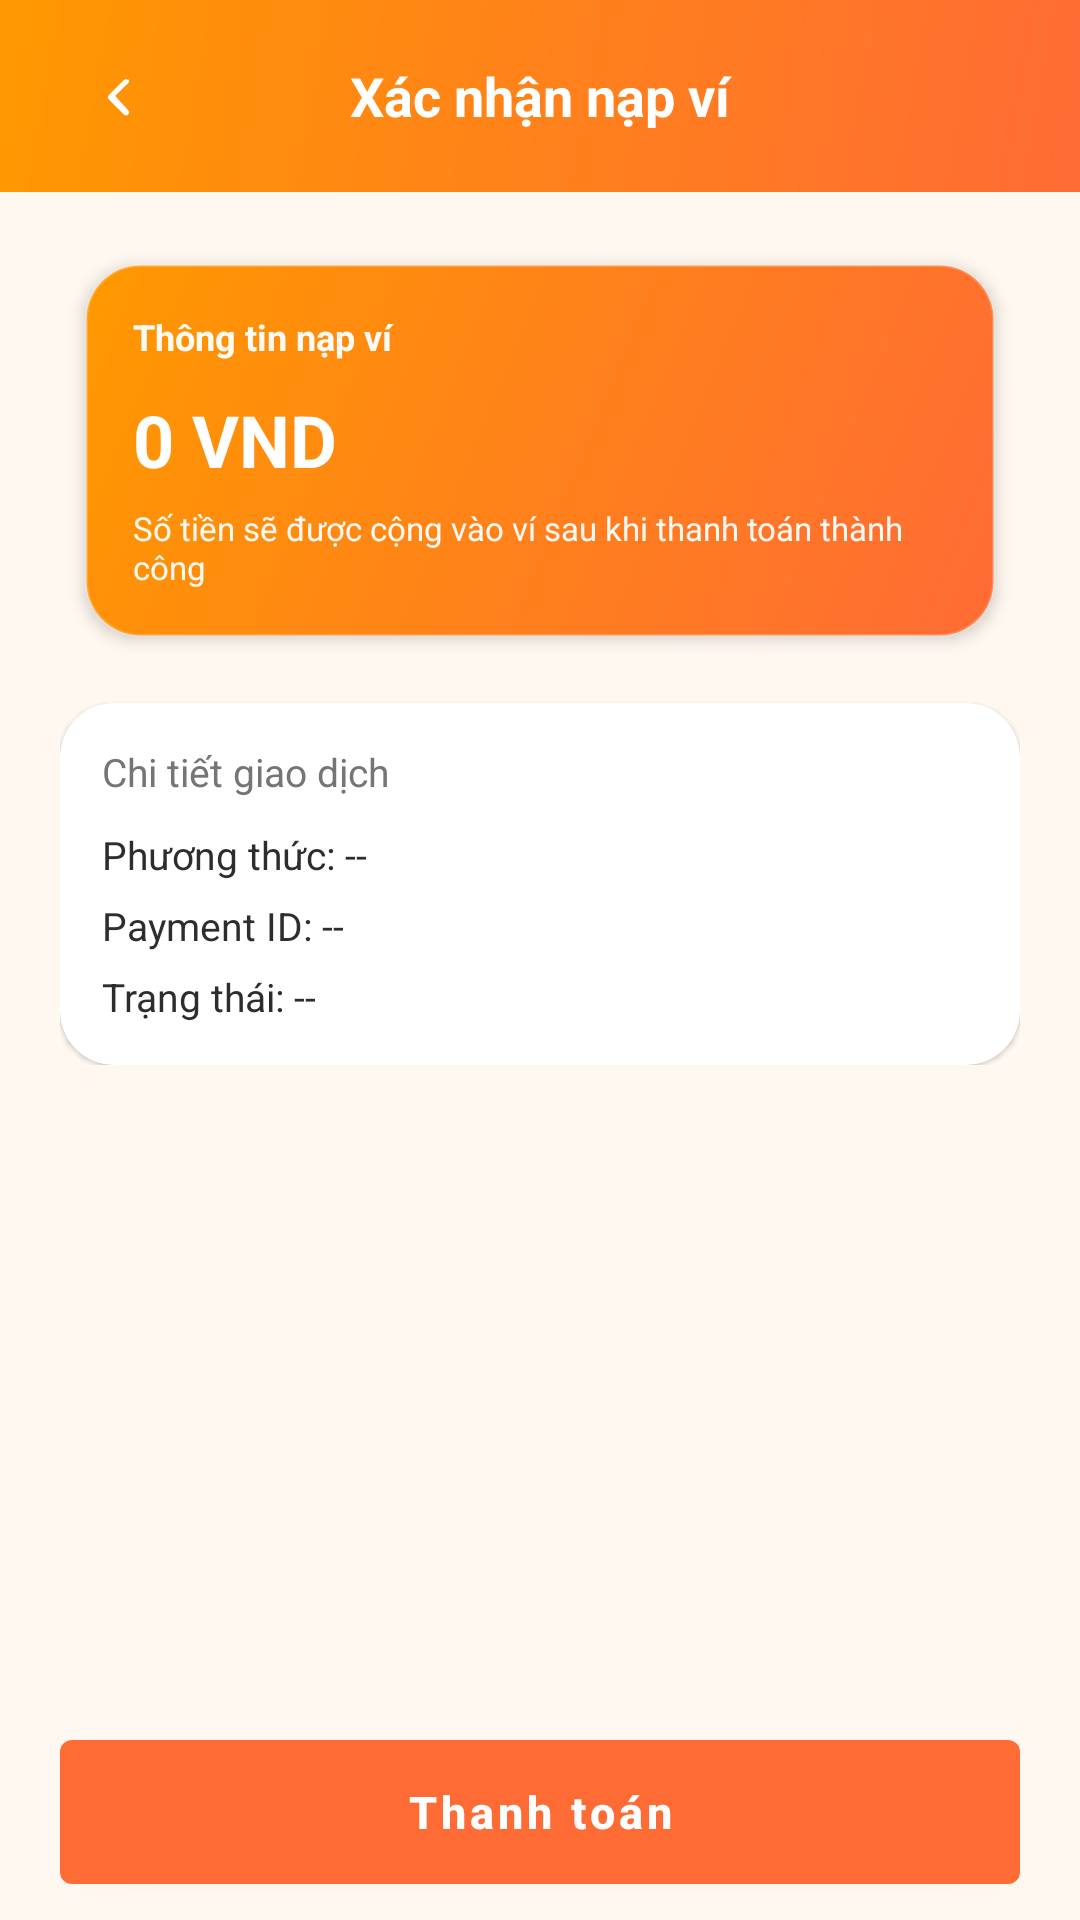

Where to tap for icons on this 1080 x 1920 app screen, as [x,y]:
chevron left: [118,97]
